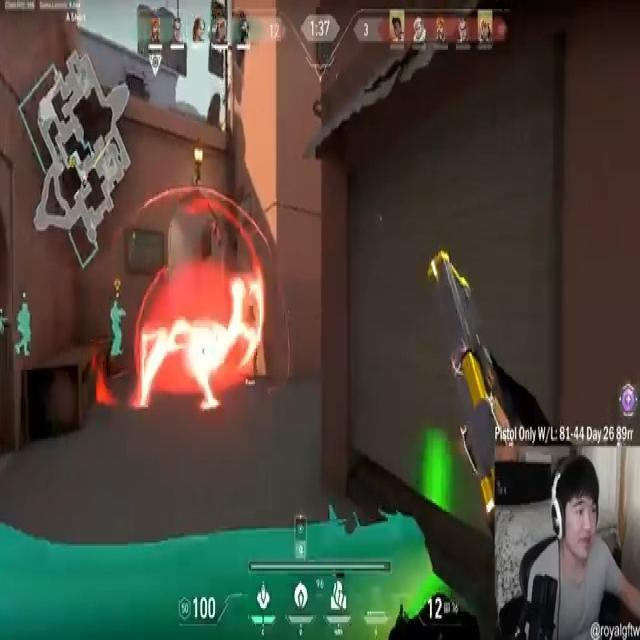ally behind wall: (14, 296, 35, 358), (111, 294, 126, 364)
